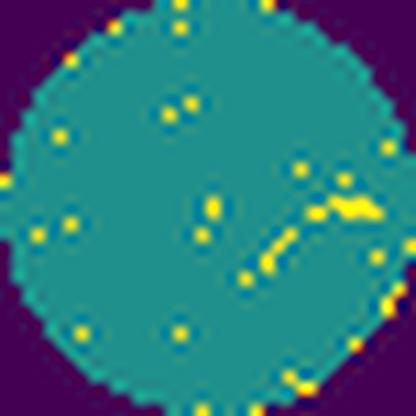Loc: (307, 195, 390, 221)
